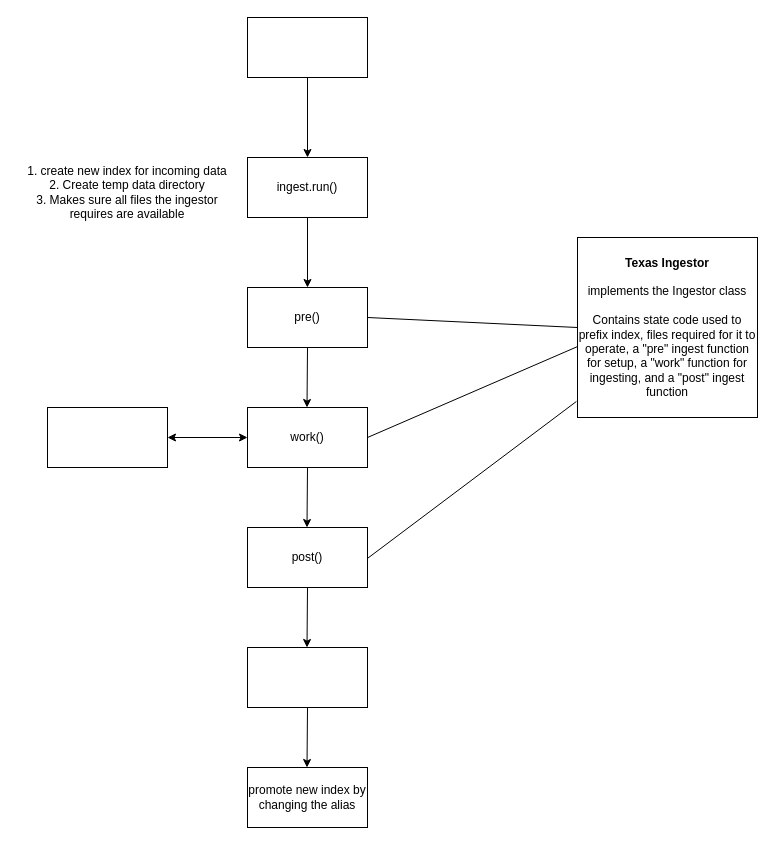
The diagram is 775 pixels wide and 845 high, and some of its shapes have lost their labels. Here are the shapes that lost their labels. From the top down, the box of each, then its label:
(246, 16, 368, 78): main.py
(46, 406, 168, 468): flush records to index
(246, 646, 368, 708): clean up temp directory
